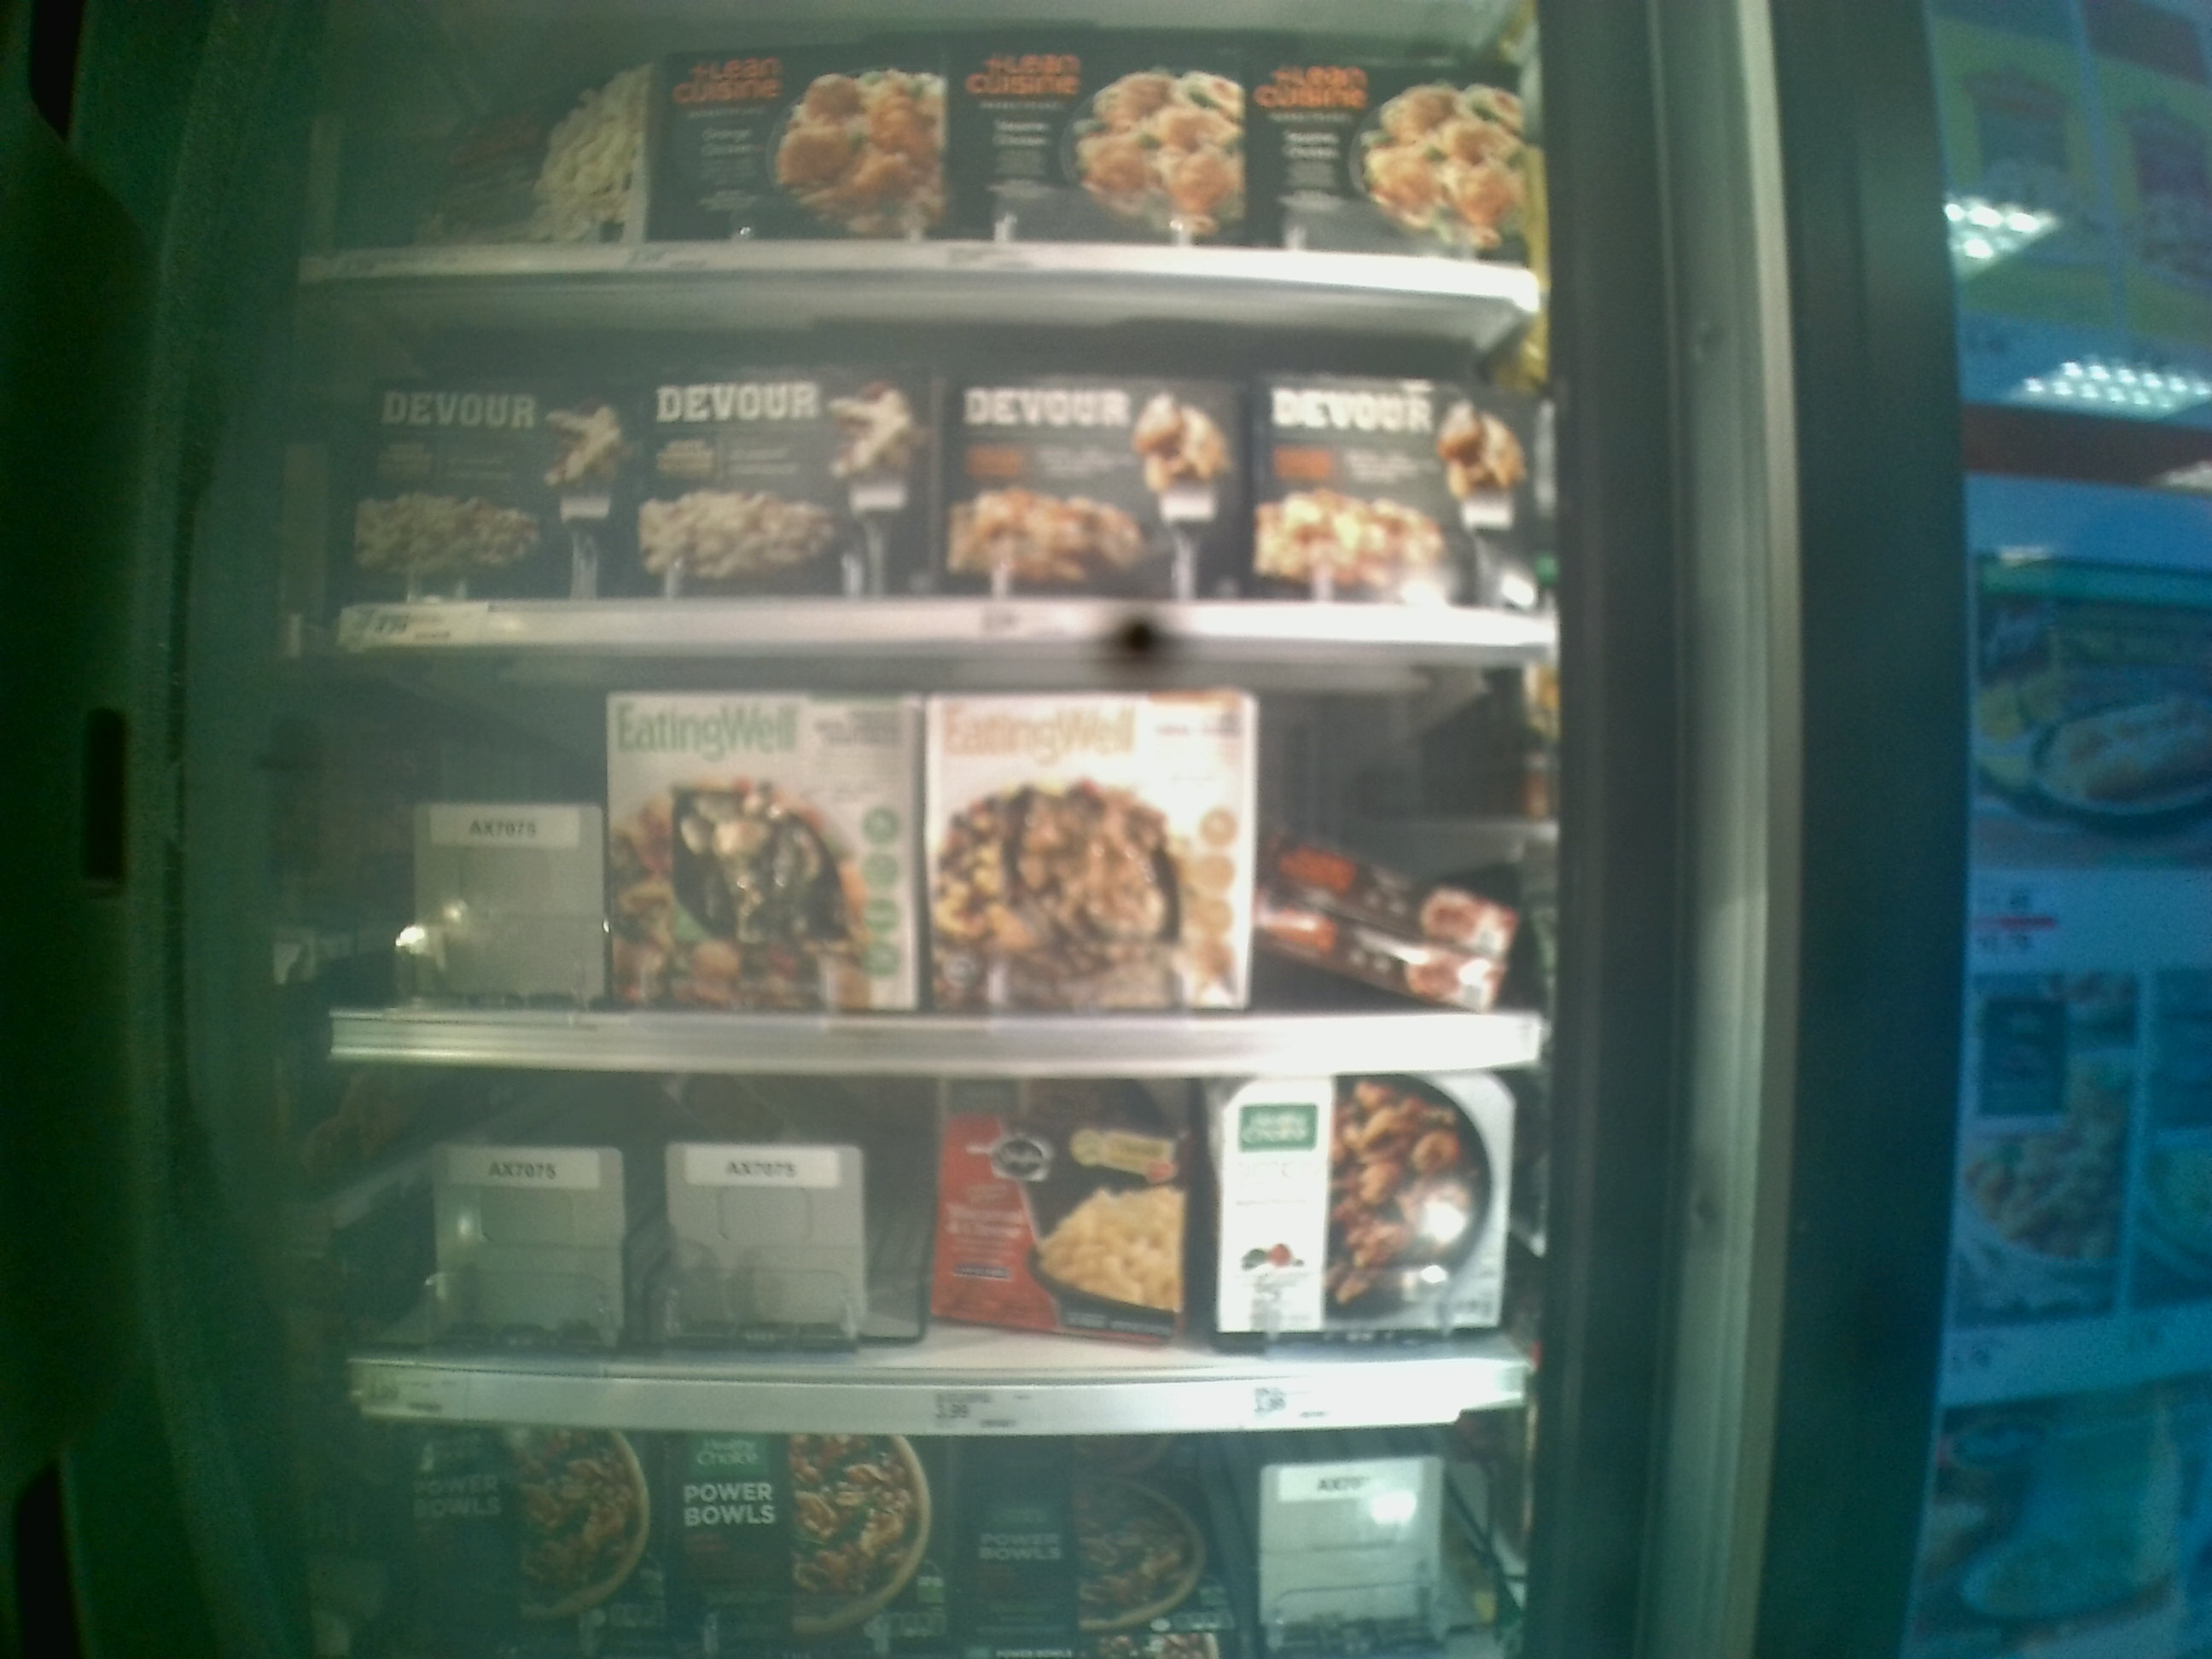shelf: (334, 643, 1564, 1080), (284, 272, 1561, 653), (310, 1054, 1583, 1427)
